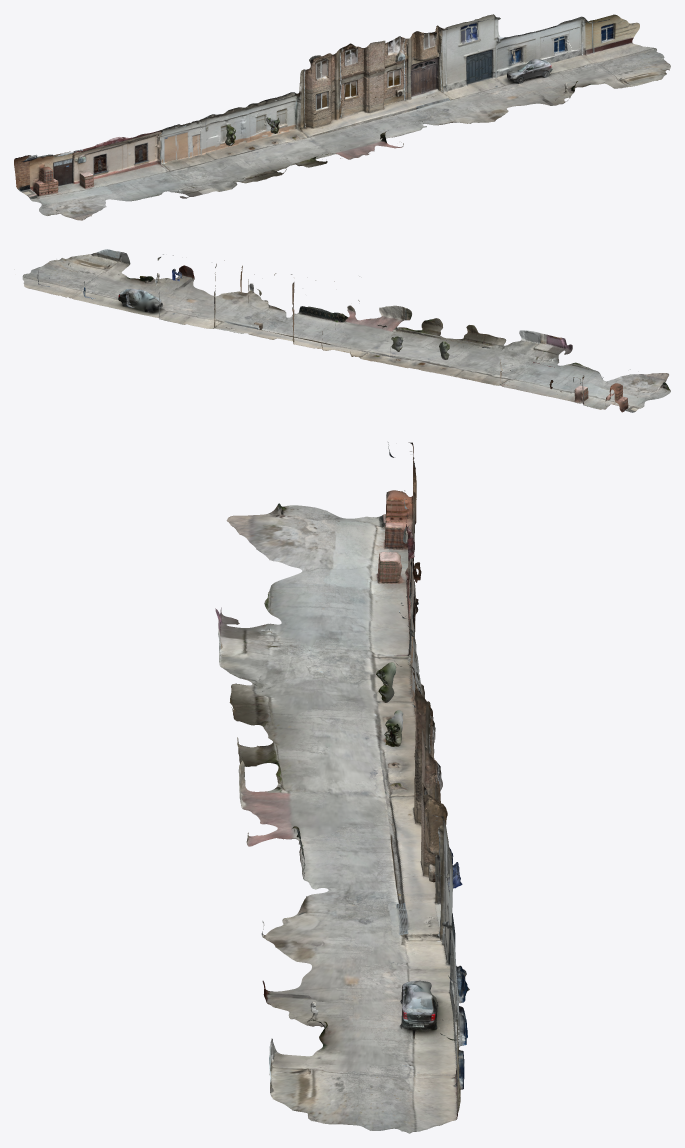
The model's file is angren-3.glb.
3 views of the same model, one above another, from view 1: azimuth 30°, elevation 25°; view 2: azimuth 150°, elevation 25°; view 3: azimuth 270°, elevation 25° (orthographic). The views are drawn at different scales.
Size of the model in its own units: 67.32 by 8.17 by 12.01.
Materials: 1 (1 with a texture image).
